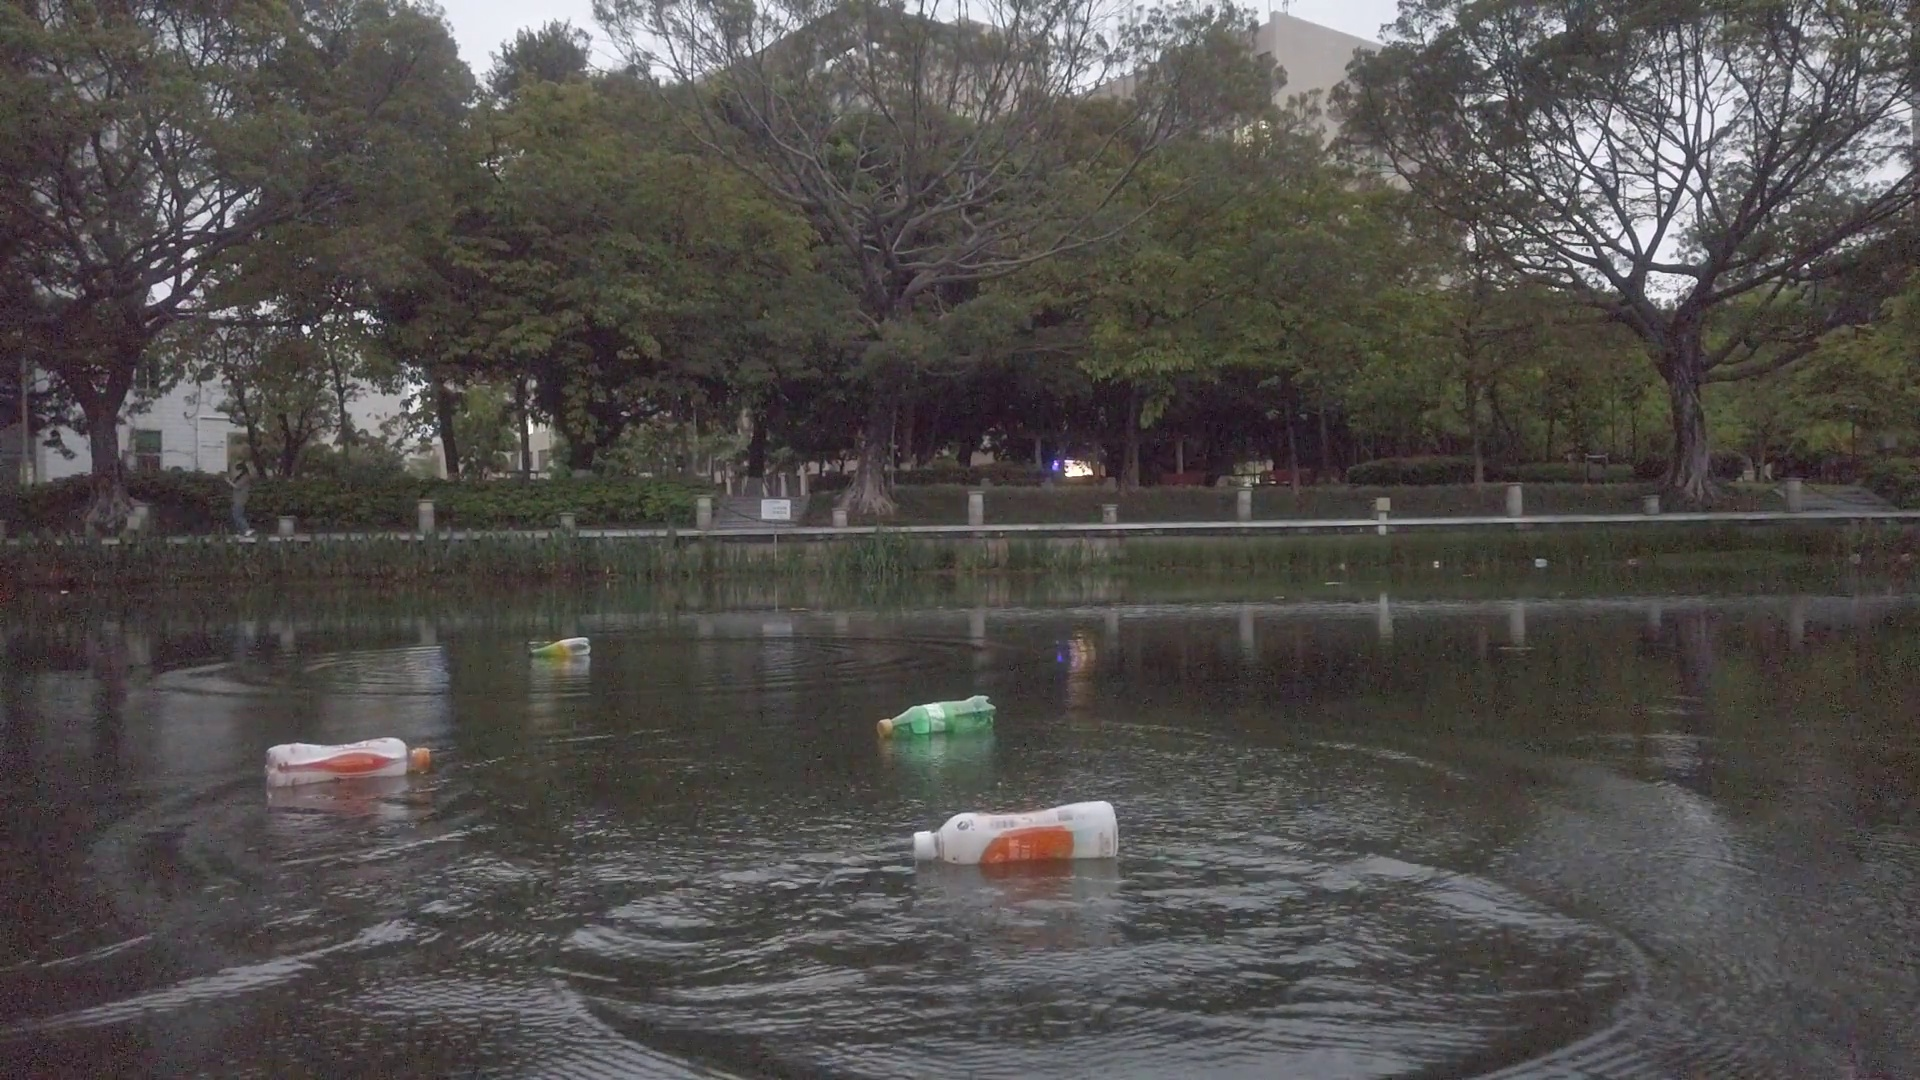bottle: (911, 793, 1124, 870), (262, 738, 429, 787), (880, 688, 1000, 752), (527, 637, 591, 659)
carton: (1535, 554, 1551, 571)
